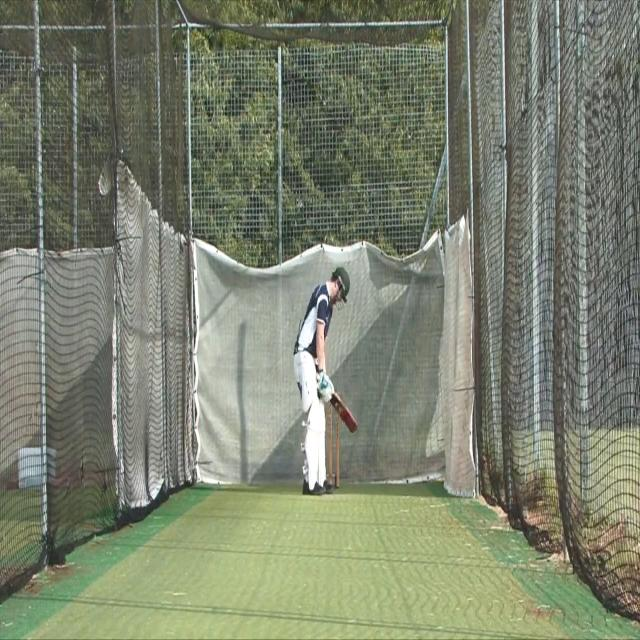batsman: (291, 264, 360, 499)
